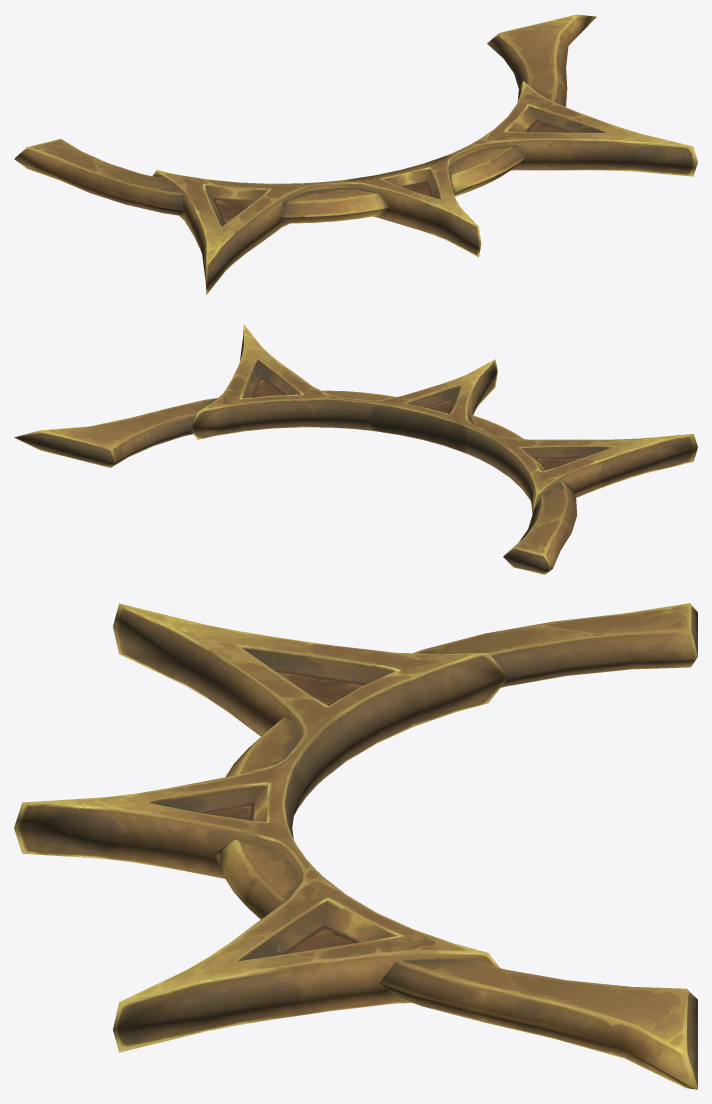
Rendered from 10du_infinitedungeon_rotatingthing02.glb.
3 views of the same model, one above another, from view 1: azimuth 30°, elevation 25°; view 2: azimuth 150°, elevation 25°; view 3: azimuth 270°, elevation 25° (orthographic). The views are drawn at different scales.
Parts seen in each view (by area): view 1: 10du_infinitedungeon_rotatingthing02; view 2: 10du_infinitedungeon_rotatingthing02; view 3: 10du_infinitedungeon_rotatingthing02.
Boxes of the visible parts, x1=… form: 10du_infinitedungeon_rotatingthing02: x1=14, y1=14, x2=697, y2=294; 10du_infinitedungeon_rotatingthing02: x1=14, y1=324, x2=697, y2=574; 10du_infinitedungeon_rotatingthing02: x1=14, y1=603, x2=697, y2=1089.
Bounding box in the file's own units: 96.67 × 4.84 × 58.54.
Materials: 1 (1 with a texture image).
